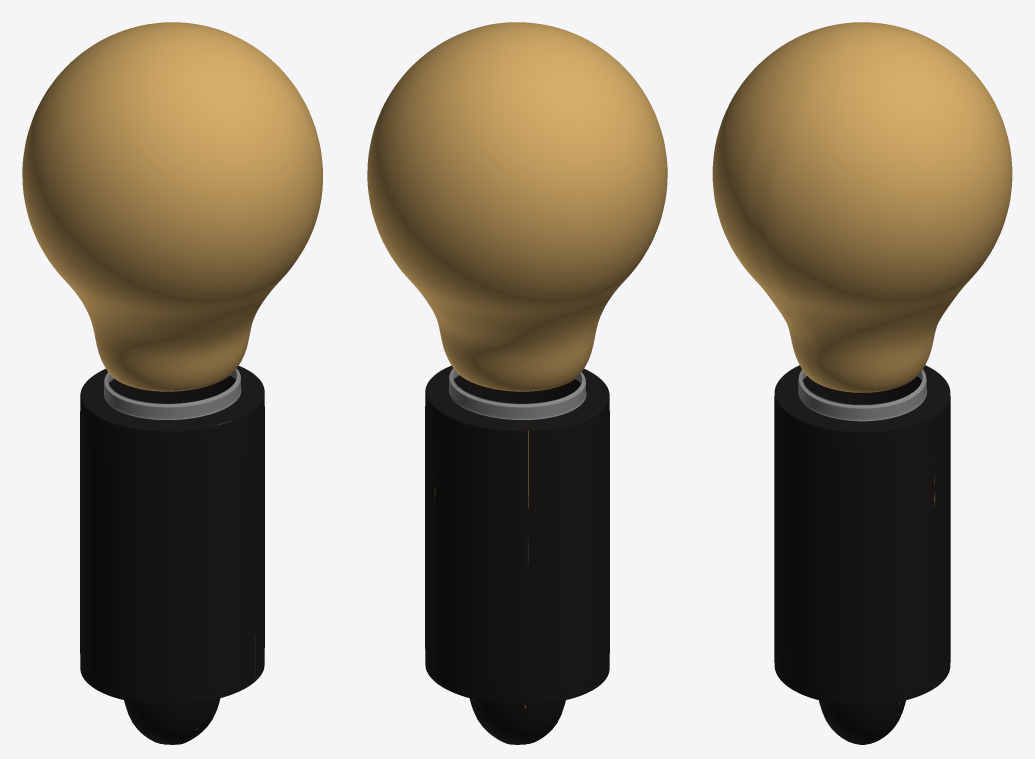
The model's file is Lightbulb.fbx.
The picture shows the model from 3 angles, left to right: view 1: azimuth 30°, elevation 25°; view 2: azimuth 150°, elevation 25°; view 3: azimuth 270°, elevation 25°; orthographic projection.
Parts seen in each view (by area): view 1: Light_Bulb; view 2: Light_Bulb; view 3: Light_Bulb.
Part boxes in pixels (x1,y1,x2,y2): Light_Bulb: [22, 22, 322, 744]; Light_Bulb: [367, 22, 667, 744]; Light_Bulb: [712, 22, 1012, 744].
Bounding box in the file's own units: 0.1177 × 0.2909 × 0.1177.
Materials: 3 (3 with a texture image).
